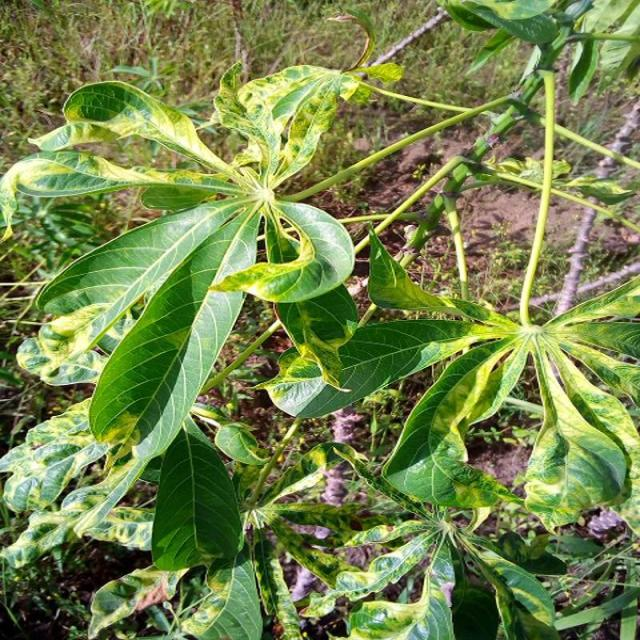cassava leaf: (1, 3, 638, 636), (149, 414, 244, 572)
